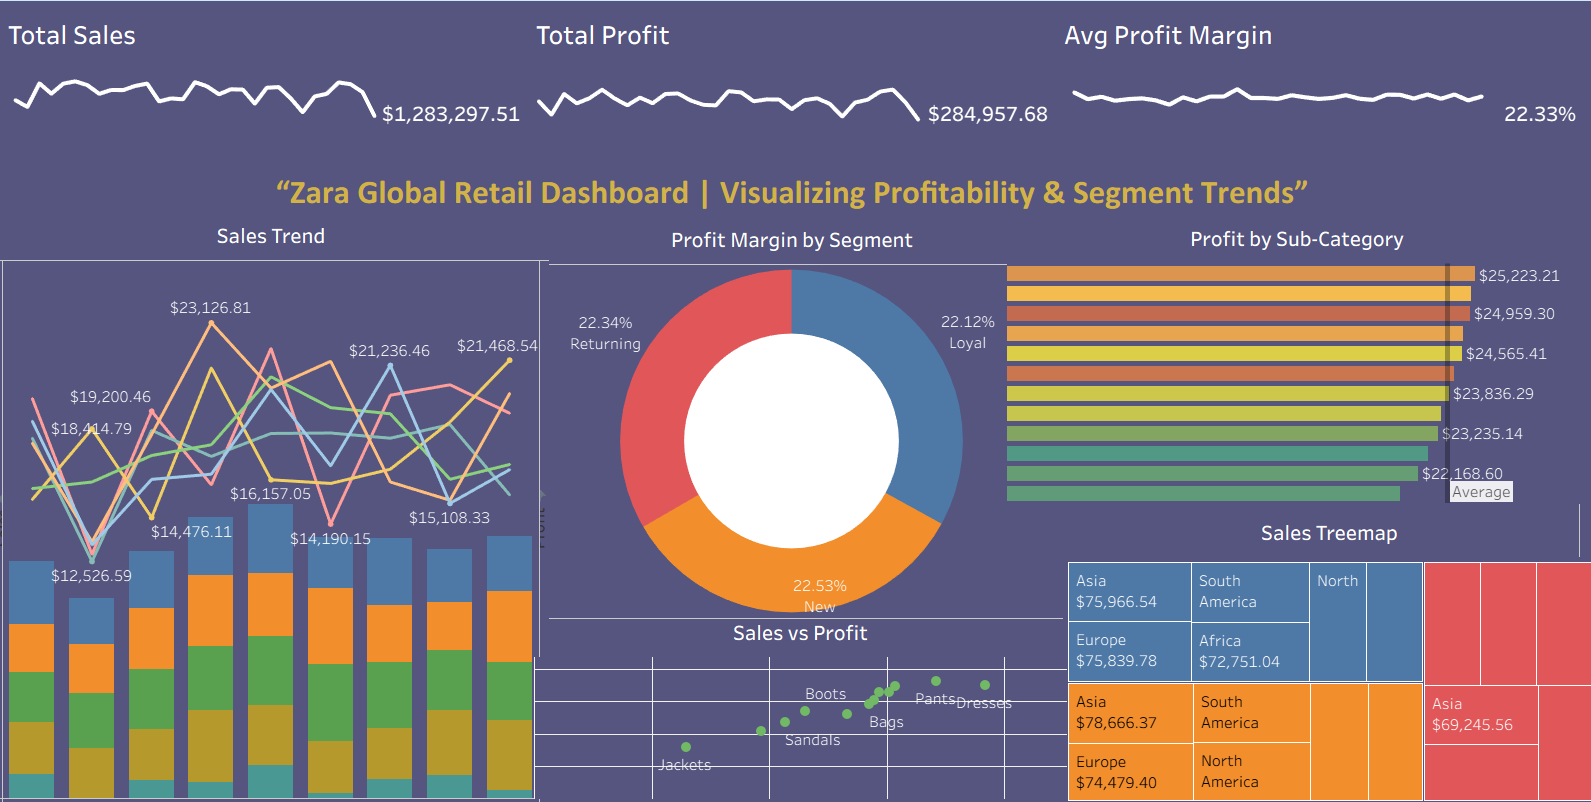

This screenshot's page, from the dashboard's own definition file:
{"tool":"tableau","page":{"name":"Zara Global Retail Dashboard","canvas":[1600,1000],"ordinal":0},"visuals":[{"type":"worksheet","title":"Total_Sales","mark":"Automatic","box":[8,8,528,159]},{"type":"worksheet","title":"Total_Profit","mark":"Automatic","box":[536,8,528,159]},{"type":"worksheet","title":"Avg_Profit_Margin","mark":"Automatic","box":[1064,8,528,159]},{"type":"worksheet","title":"Sales_Line","mark":"Line","rows":["Sales"],"cols":["Order Date"],"box":[17,73,371,103]},{"type":"worksheet","title":"AvgProfit_Line","mark":"Line","rows":["Calculation_820781055019012096"],"cols":["Order Date"],"box":[1075,81,421,98]},{"type":"worksheet","title":"Profit_Line","mark":"Line","rows":["Profit"],"cols":["Order Date"],"box":[540,82,392,88]},{"type":"text","box":[8,167,1584,49]},{"type":"worksheet","title":"Sales_Trend","mark":"Line","rows":["Sales","Profit"],"cols":["Order Date"],"box":[0,216,558,592]},{"type":"worksheet","title":"ProfitMargin_by_Segment","mark":"Pie","rows":["Calculation_479351908327469061","Calculation_479351908327469061"],"box":[8,216,1584,406]},{"type":"worksheet","title":"Profit_by_Sub-Category","mark":"Automatic","rows":["Sub-Category"],"cols":["Profit"],"box":[1015,219,580,296]},{"type":"worksheet","title":"Sales_Treemap","mark":"Automatic","box":[1071,513,533,291]},{"type":"worksheet","title":"Sales vs Profit","mark":"Circle","rows":["Profit"],"cols":["Sales"],"box":[542,613,533,185]},{"type":"blank","box":[8,622,1584,32]}]}

Visuals, with their boxes on the page's 1600x1000 design canvas (x1, y1, x2, y2). These are canvas units, not pixel positions in the 1591x802 screenshot, which may show the page scaled, cropped or inside an application window:
"Total_Sales" worksheet: box=[8, 8, 536, 167]
"Total_Profit" worksheet: box=[536, 8, 1064, 167]
"Avg_Profit_Margin" worksheet: box=[1064, 8, 1592, 167]
"Sales_Line" worksheet (Line marks): box=[17, 73, 388, 176]
"AvgProfit_Line" worksheet (Line marks): box=[1075, 81, 1496, 179]
"Profit_Line" worksheet (Line marks): box=[540, 82, 932, 170]
text: box=[8, 167, 1592, 216]
"Sales_Trend" worksheet (Line marks): box=[0, 216, 558, 808]
"ProfitMargin_by_Segment" worksheet (Pie marks): box=[8, 216, 1592, 622]
"Profit_by_Sub-Category" worksheet: box=[1015, 219, 1595, 515]
"Sales_Treemap" worksheet: box=[1071, 513, 1604, 804]
"Sales vs Profit" worksheet (Circle marks): box=[542, 613, 1075, 798]
blank: box=[8, 622, 1592, 654]
